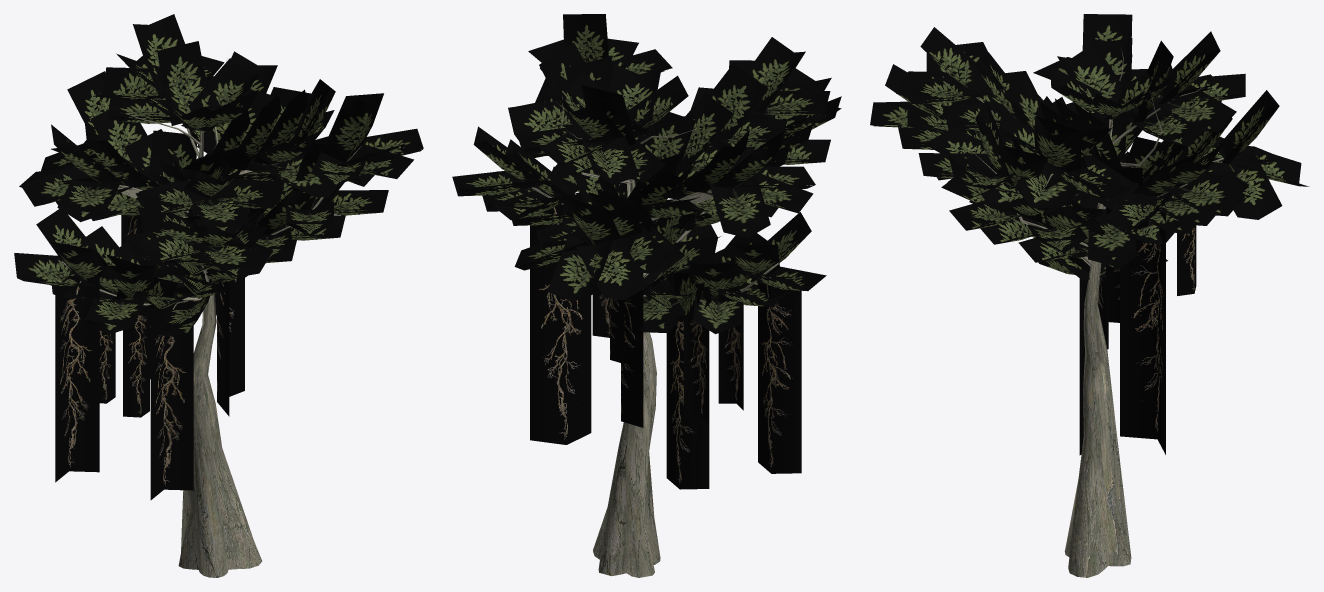
Rendered from CopalTree01.DAE.
3 renders of one model, left to right at view 1: azimuth 30°, elevation 25°; view 2: azimuth 150°, elevation 25°; view 3: azimuth 270°, elevation 25°, orthographic.
Visible parts, largest first — view 1: Copal256, Copal200; view 2: Copal200, Copal256; view 3: Copal200, Copal256.
Part boxes in pixels (x1,y1,x2,y2): Copal256: [14, 28, 422, 577]; Copal200: [14, 14, 423, 575]; Copal200: [452, 14, 841, 577]; Copal256: [452, 19, 841, 577]; Copal200: [870, 14, 1307, 576]; Copal256: [870, 20, 1309, 577].
Size of what is drawn, in the model's own units: 410 by 444 by 573.
